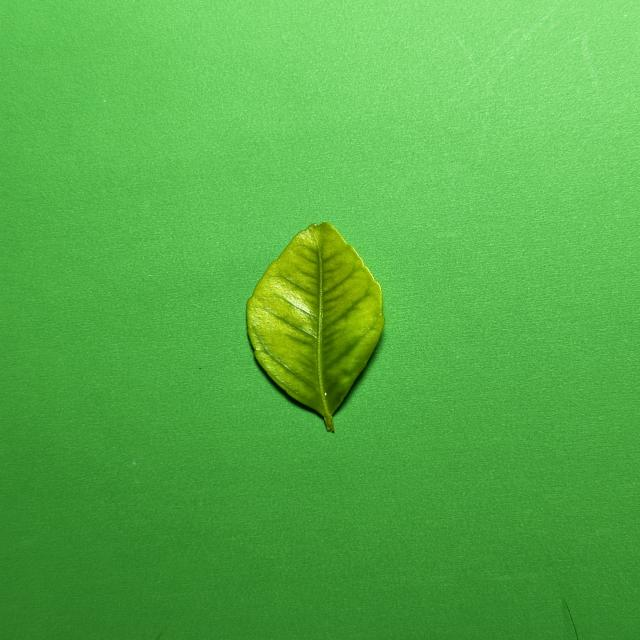greening: (247, 222, 385, 432)
